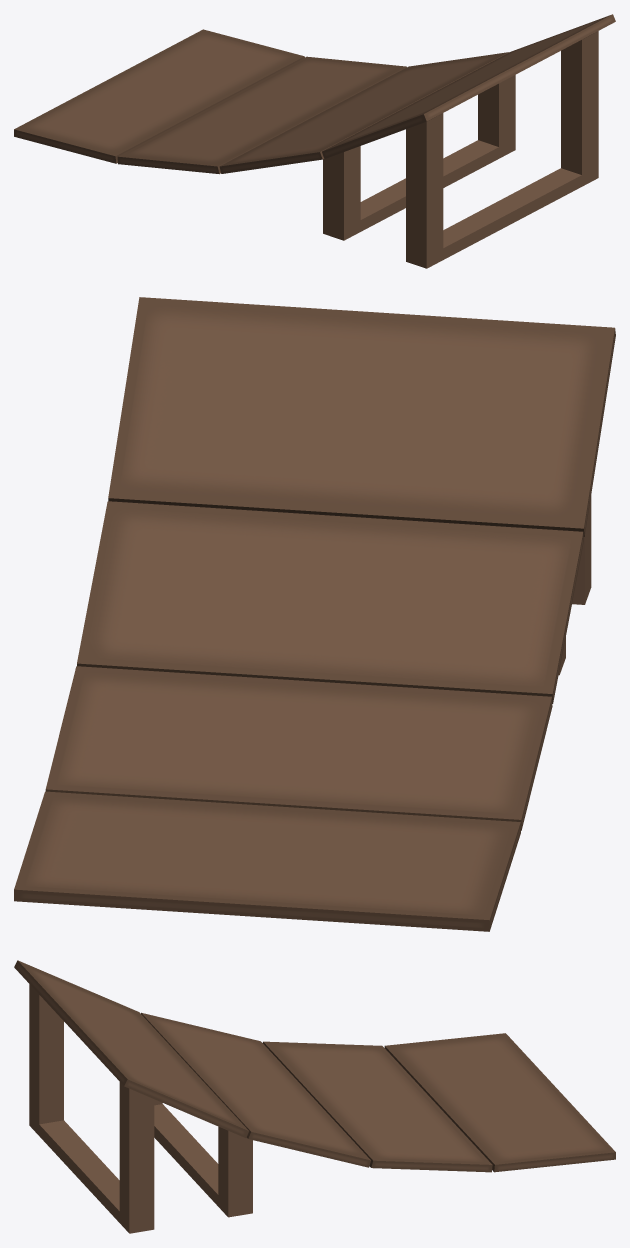
File: rampa_fin.fbx
The picture shows the model from 3 angles, top to bottom: view 1: azimuth 30°, elevation 25°; view 2: azimuth 150°, elevation 25°; view 3: azimuth 270°, elevation 25°; orthographic projection. The views are drawn at different scales.
Parts seen in each view (by area): view 1: Plane.006; view 2: Plane.006; view 3: Plane.006.
Boxes of the visible parts, x1,y1,x2,y2 form: Plane.006: (14,14,615,268); Plane.006: (14,297,615,931); Plane.006: (14,960,615,1233).
Size of the model in its own units: 1070 by 401 by 1358.
